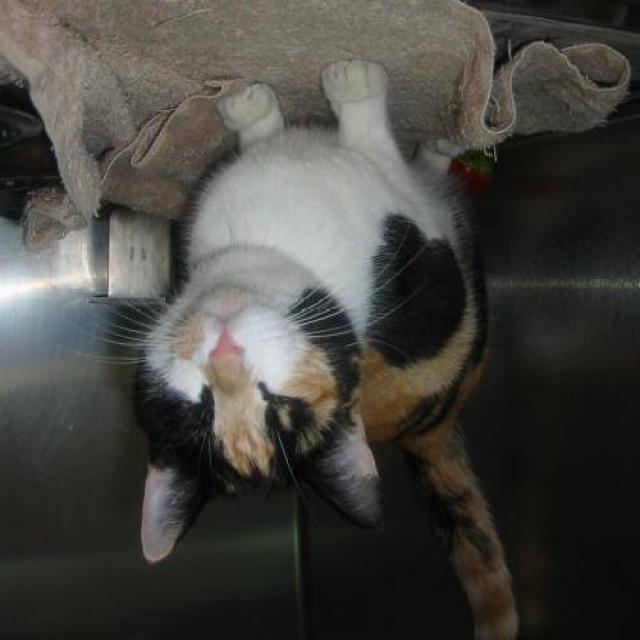Kucing: (44, 64, 566, 582)
